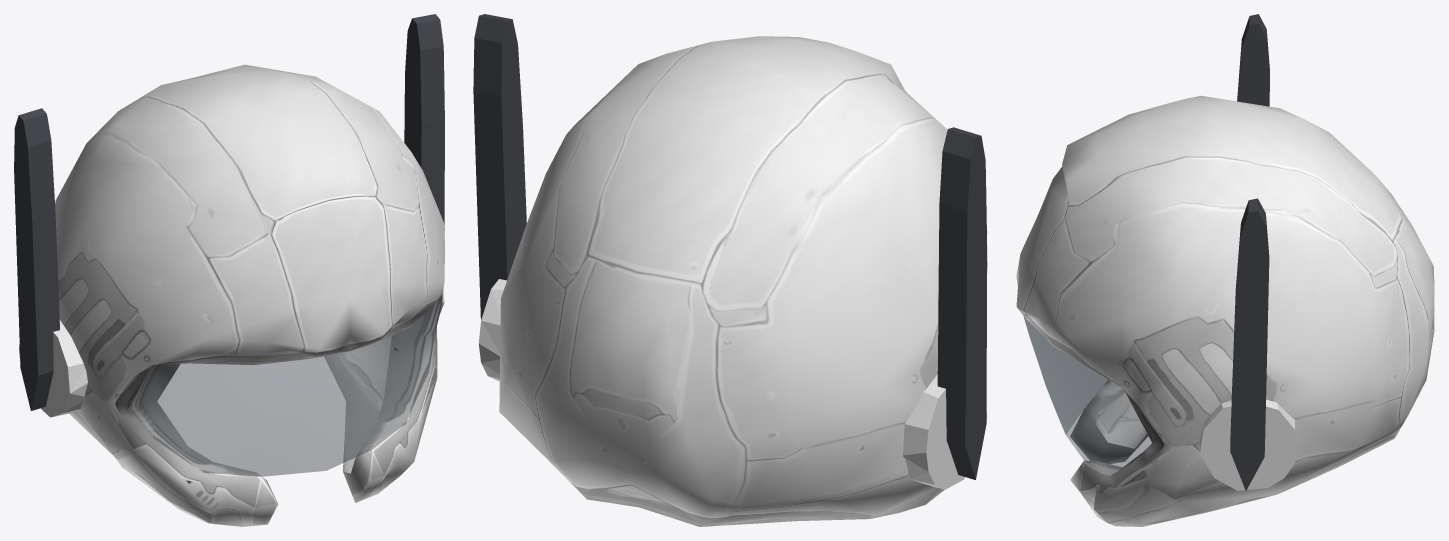
File: ArmorHelmetMechCommander.glb
3 views of the same model, side by side, from view 1: azimuth 30°, elevation 25°; view 2: azimuth 150°, elevation 25°; view 3: azimuth 270°, elevation 25° (orthographic). The views are drawn at different scales.
Visible parts, largest first — view 1: ArmorHelmetMechCommander; view 2: ArmorHelmetMechCommander; view 3: ArmorHelmetMechCommander.
Part boxes in pixels (box(x1,y1,x2,y2)): ArmorHelmetMechCommander: box(14, 14, 444, 526); ArmorHelmetMechCommander: box(473, 14, 987, 526); ArmorHelmetMechCommander: box(1016, 14, 1434, 526).
Size of the model in its own units: 12.29 by 10.98 by 11.03.
2 materials, 1 textured.
